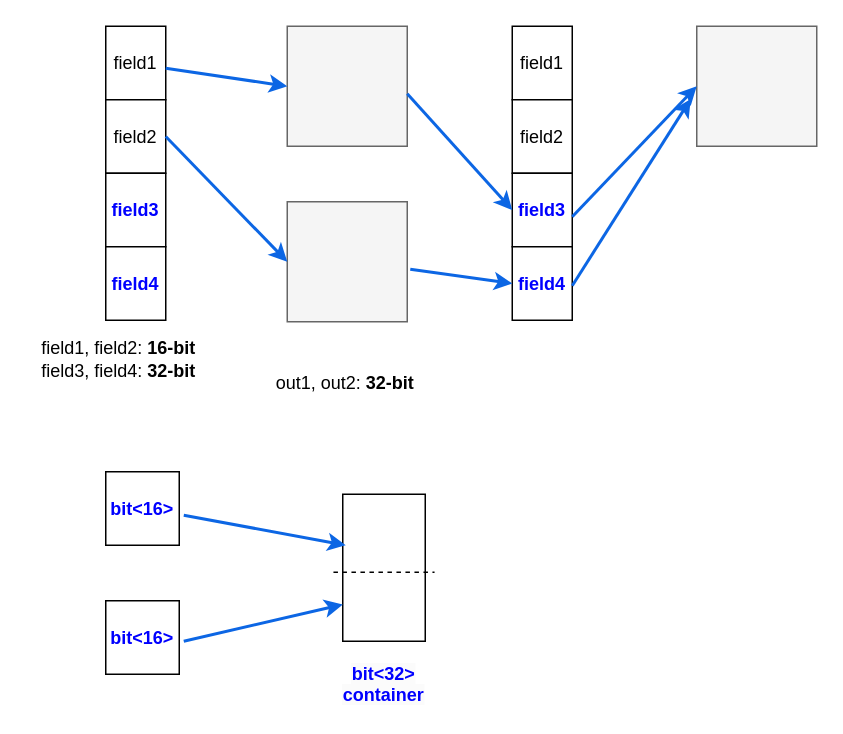
Image size: 843x734. Some labels were removed from this diagram. Each missing label, with the centre of its shape:
"out1 = (field1 << 16);" goes at point (346, 85).
"out1 = field3 + field4;" goes at point (756, 85).
"out2 = field2;" goes at point (346, 261).
